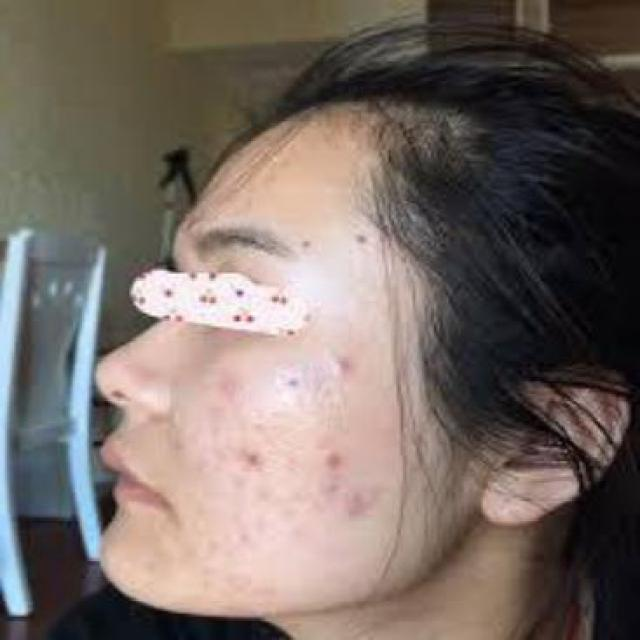papules: (324, 351, 360, 380), (314, 444, 347, 474), (241, 444, 263, 470), (351, 229, 380, 245)
pustules: (281, 372, 303, 396)
